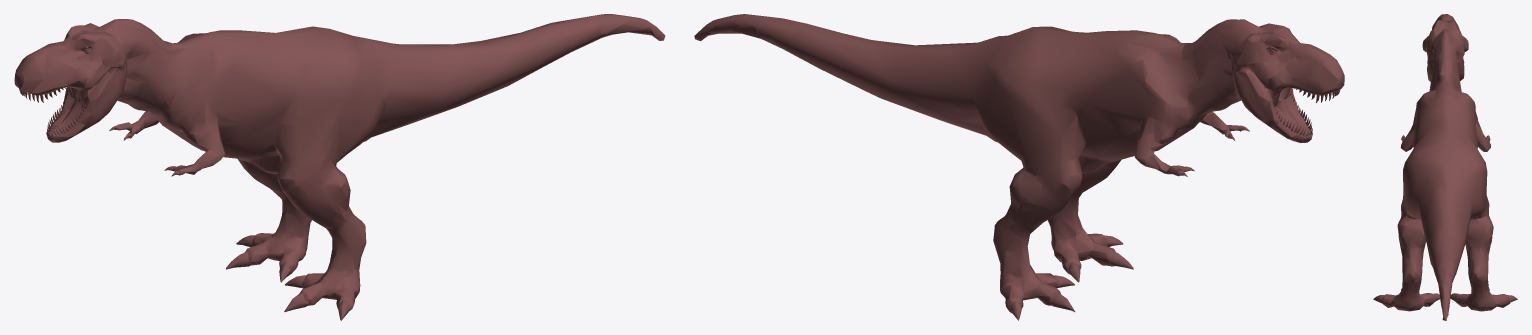
Rendered from DF_T-Rex.fbx.
3 renders of one model, left to right at view 1: azimuth 30°, elevation 25°; view 2: azimuth 150°, elevation 25°; view 3: azimuth 270°, elevation 25°, orthographic. The views are drawn at different scales.
Visible parts, largest first — view 1: T_Rex_Model:META, T_Rex_Model:UNAS, T_Rex_Model:DIENTS; view 2: T_Rex_Model:META, T_Rex_Model:UNAS, T_Rex_Model:DIENTS; view 3: T_Rex_Model:META, T_Rex_Model:UNAS.
Part boxes in pixels (x1,y1,x2,y2): T_Rex_Model:META: [14, 14, 665, 311]; T_Rex_Model:UNAS: [109, 125, 349, 320]; T_Rex_Model:DIENTS: [19, 86, 86, 135]; T_Rex_Model:META: [694, 14, 1344, 312]; T_Rex_Model:UNAS: [1010, 126, 1249, 320]; T_Rex_Model:DIENTS: [1273, 87, 1340, 136]; T_Rex_Model:META: [1380, 14, 1510, 320]; T_Rex_Model:UNAS: [1373, 135, 1517, 302].
Bounding box in the file's own units: 546 × 248 × 153.
